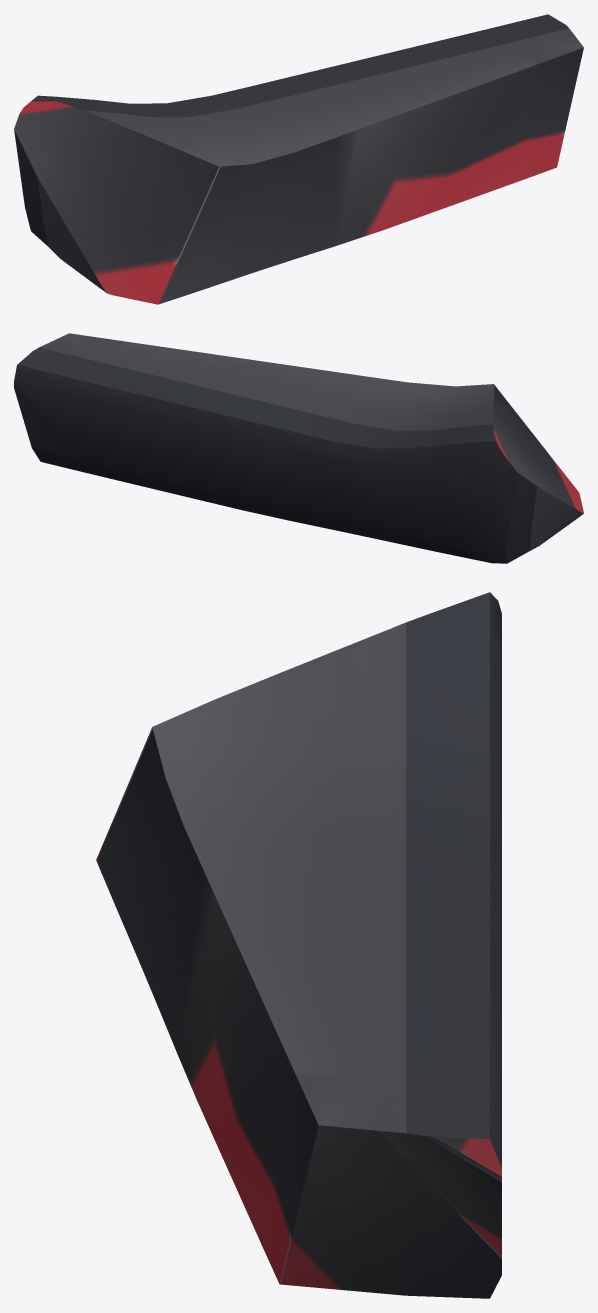
Rendered from torii_broken_043.obj.
3 renders of one model, top to bottom at view 1: azimuth 30°, elevation 25°; view 2: azimuth 150°, elevation 25°; view 3: azimuth 270°, elevation 25°, orthographic. The views are drawn at different scales.
Parts seen in each view (by area): view 1: 鳥居.001_cell.043_鳥居.001_cell.049; view 2: 鳥居.001_cell.043_鳥居.001_cell.049; view 3: 鳥居.001_cell.043_鳥居.001_cell.049.
Boxes of the visible parts, x1,y1,x2,y2 form: 鳥居.001_cell.043_鳥居.001_cell.049: (14,14,583,304); 鳥居.001_cell.043_鳥居.001_cell.049: (14,333,583,563); 鳥居.001_cell.043_鳥居.001_cell.049: (96,592,501,1298).
Size of the model in its own units: 0.8684 by 0.2231 by 0.3048.
1 material, 1 textured.
